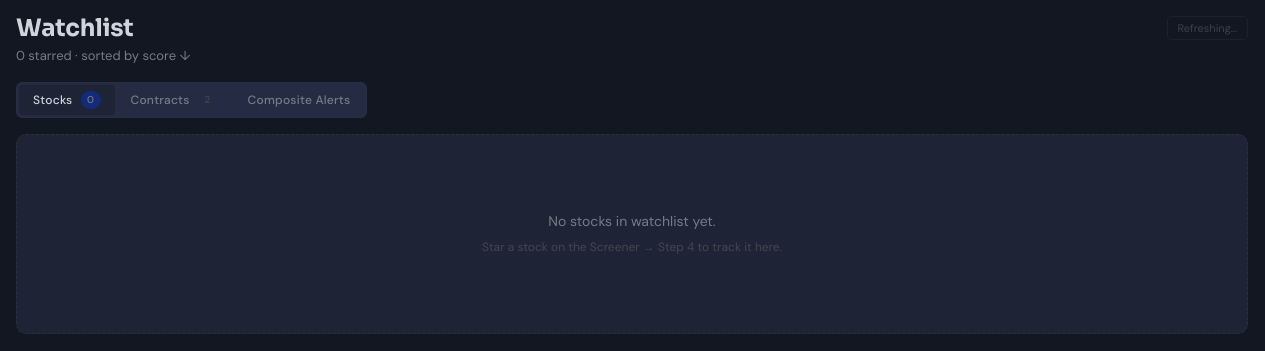
Test: WatchlistPage — Contracts tab grades each star with its own grading › Refresh in flight keeps every live score
This screenshot has width=1265, height=351.
Click the tab "Contracts 2". click: (174, 100)
box: [116,85,232,115]
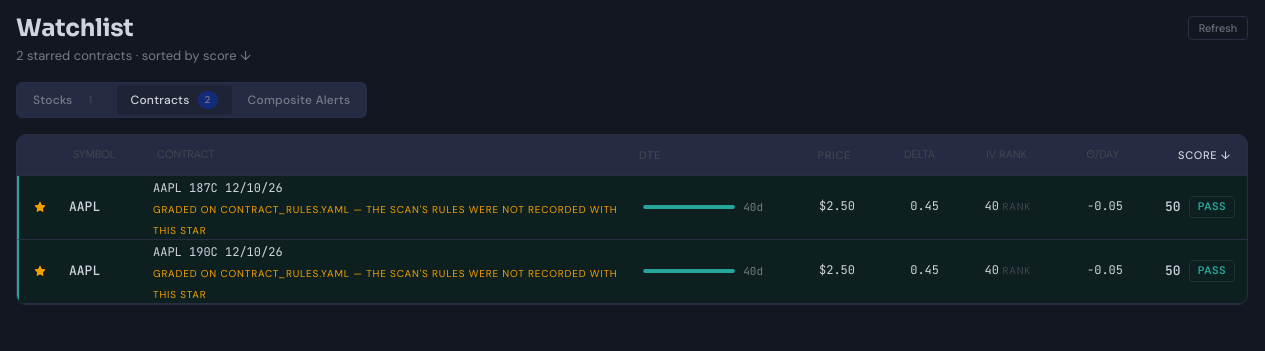
Click the button "Refresh". click: (1218, 28)
box: [1188,16,1248,40]
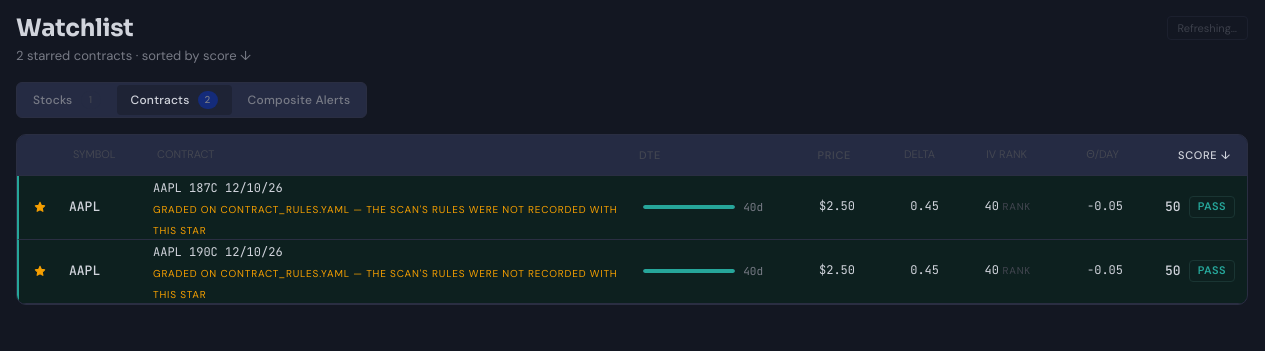
Now the button "Refreshing…" is shown, box [1166,16,1248,40]
